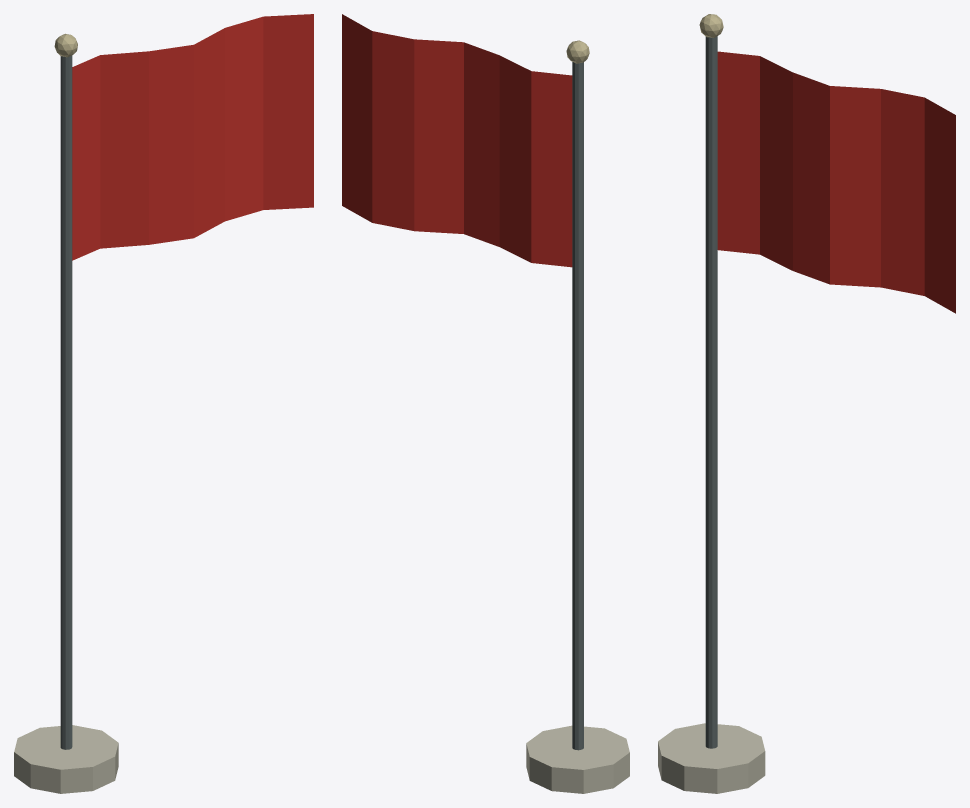
Rendered from flag_pole.glb.
3 renders of one model, left to right at view 1: azimuth 30°, elevation 25°; view 2: azimuth 150°, elevation 25°; view 3: azimuth 330°, elevation 25°, orthographic. The views are drawn at different scales.
Parts seen in each view (by area): view 1: flag_pole; view 2: flag_pole; view 3: flag_pole.
Part boxes in pixels (x1,y1,x2,y2): flag_pole: (14, 14, 313, 793); flag_pole: (342, 14, 629, 793); flag_pole: (658, 14, 955, 793).
Bounding box in the file's own units: 2.48 × 6.09 × 0.8.
